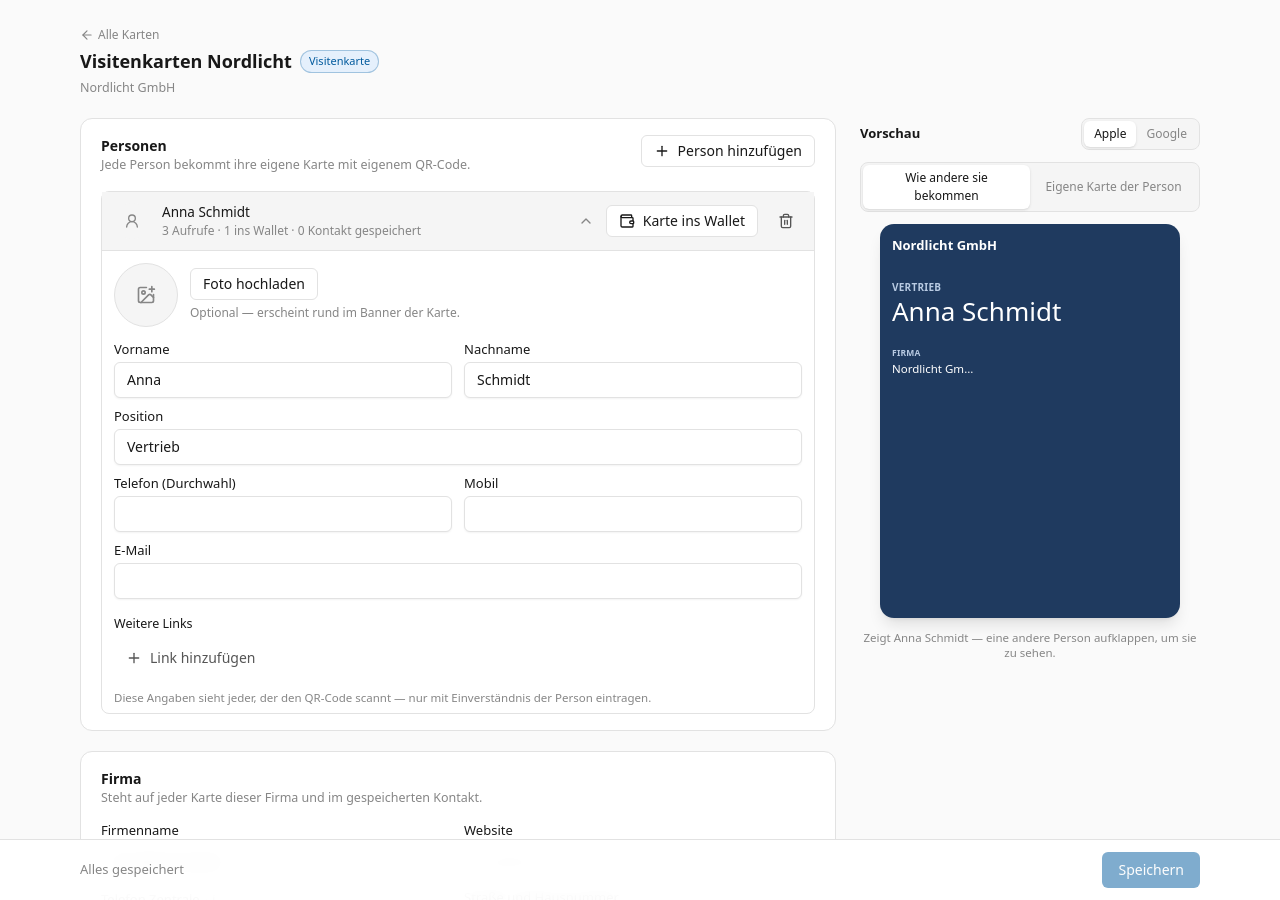
Test: BusinessCardEditor › shows what is typed in the preview right away
This screenshot has width=1280, height=900.
Replace the text in the field labelled "Vorname" with "Annika" at (283, 380), box x1=114 y1=362 x2=452 y2=398
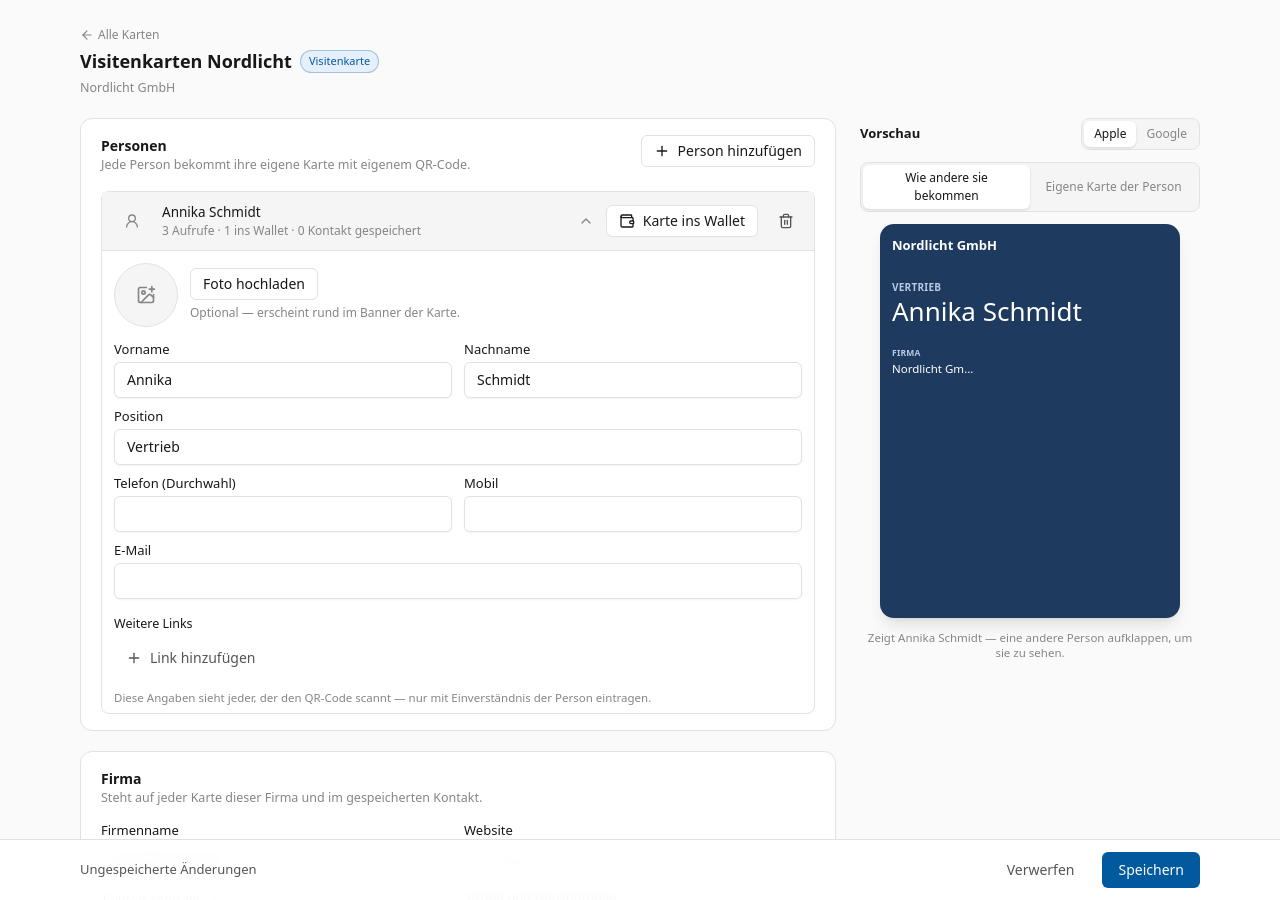
Check: the 1st text "Annika Schmidt" is shown, box x1=162 y1=202 x2=261 y2=222
